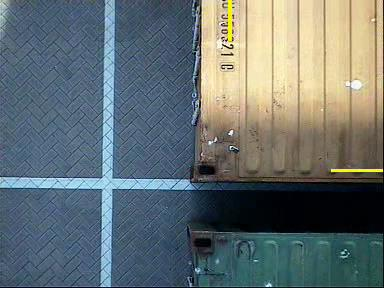groundmarker_2: (19, 172, 122, 243)
